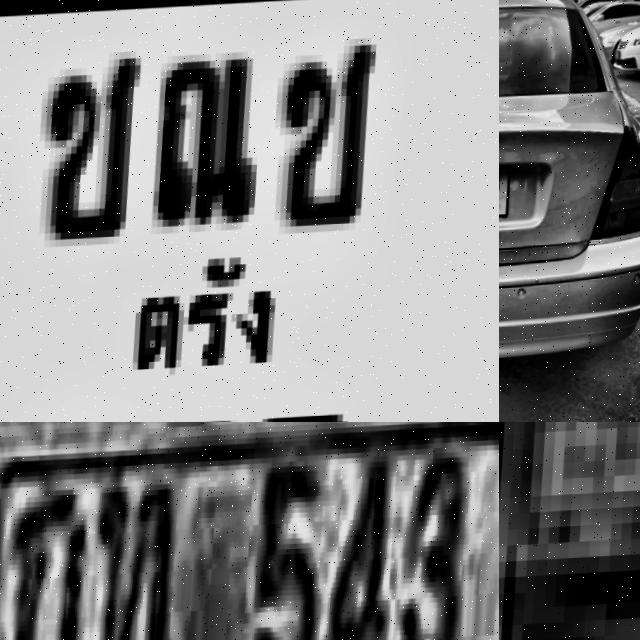license-plate: (0, 0, 499, 422), (0, 422, 499, 640), (499, 422, 640, 640), (499, 161, 519, 223), (616, 49, 624, 63)
